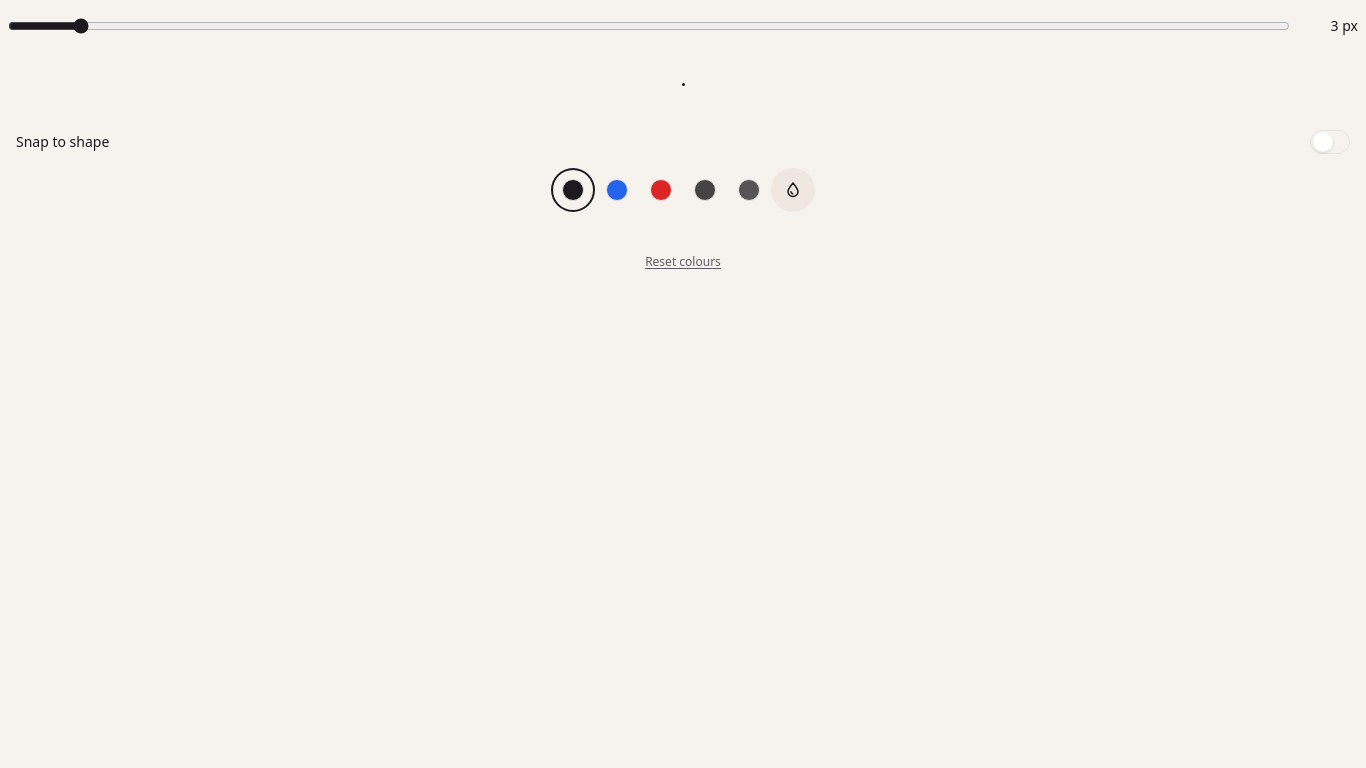
Test case: ToolOptions text styles › Save preset is not offered once the tapped preset itself was removed
Click the button named "Colour #444444": click(705, 190) [683, 168, 727, 212]
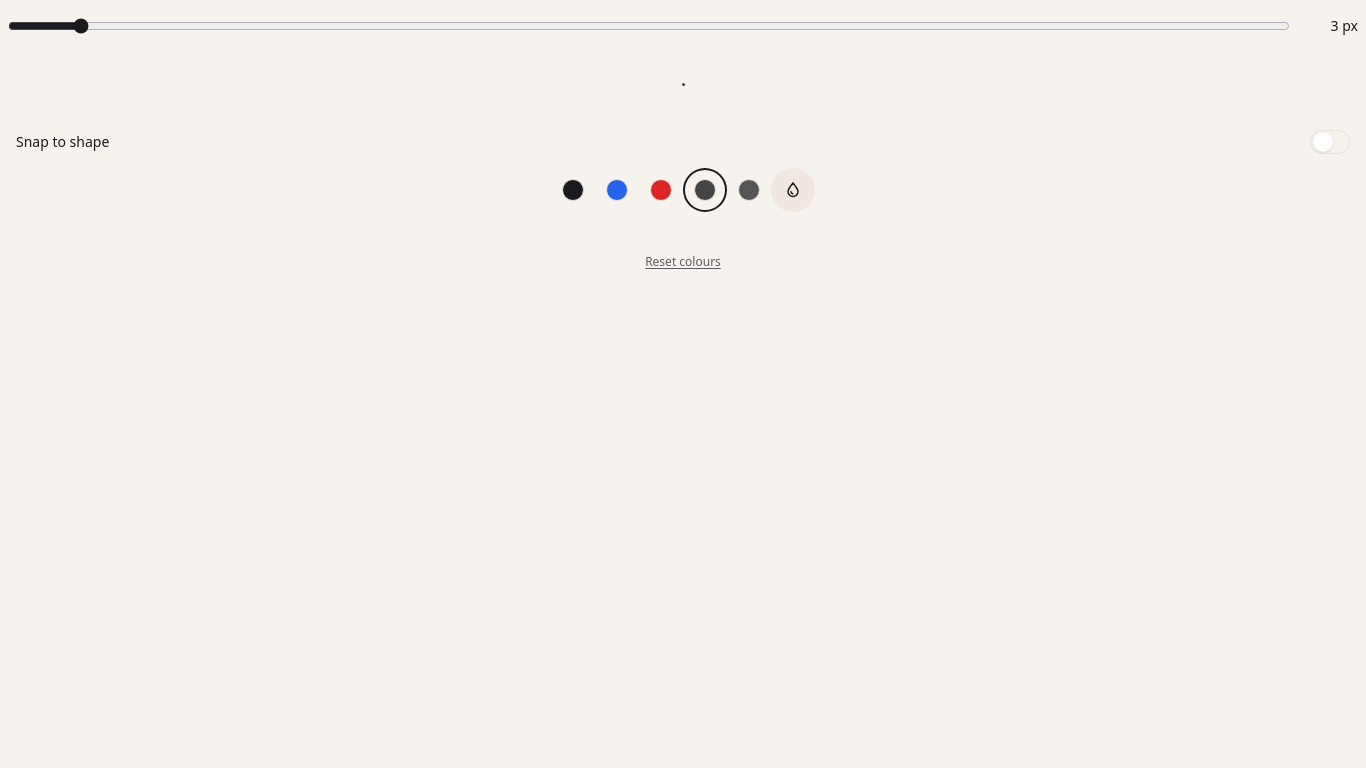
Click the button named "Colour #444444": click(705, 190) [683, 168, 727, 212]
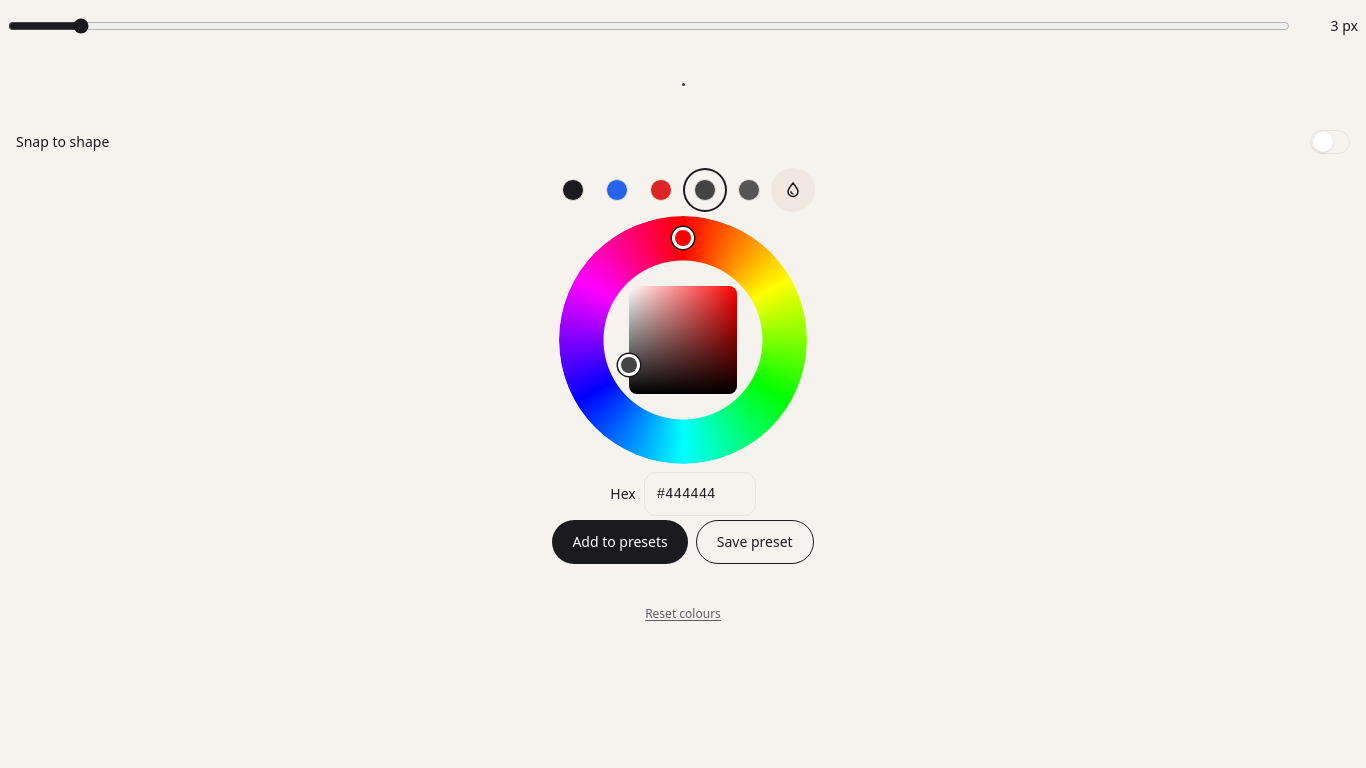
Check: the button "Save preset" is shown, box [696, 520, 814, 564]
Press Delete in the button named "Colour #444444", box [683, 168, 727, 212]
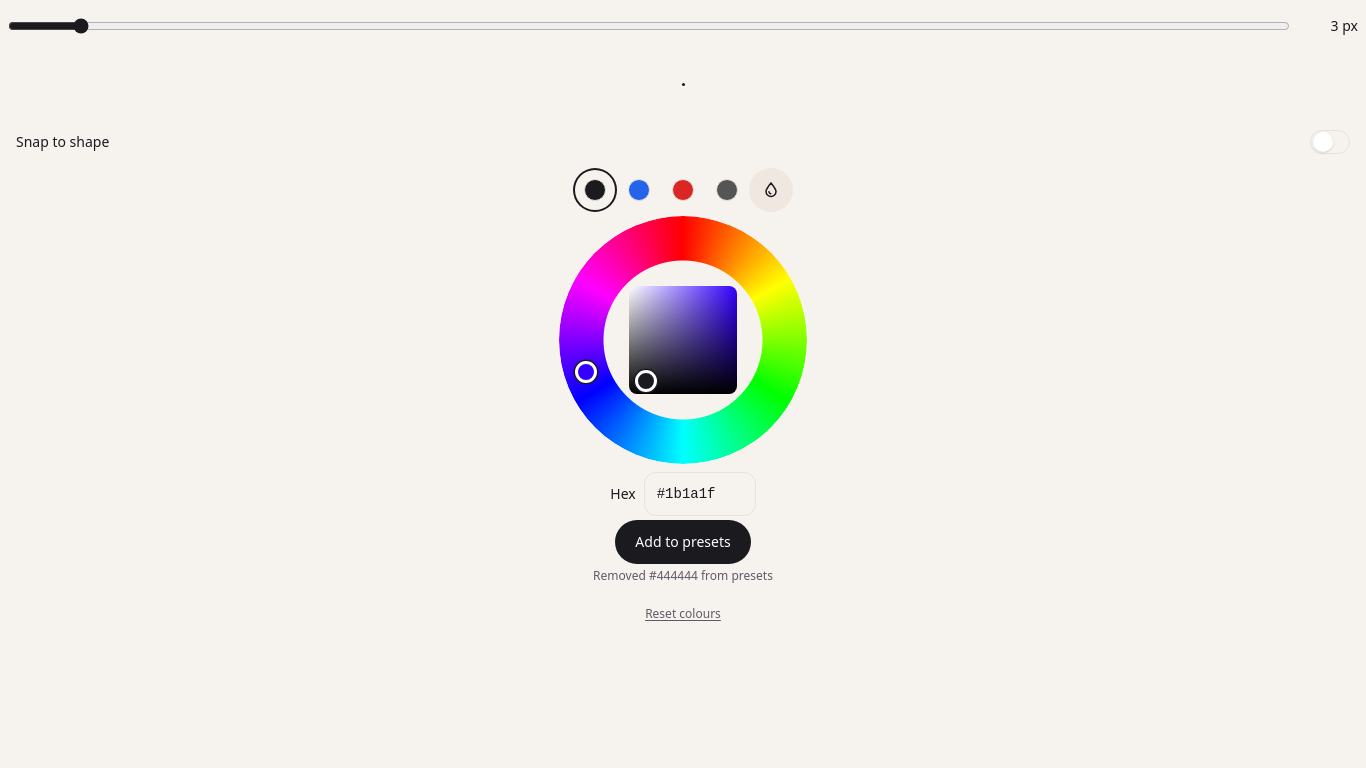
Check: the button "Save preset" is gone
